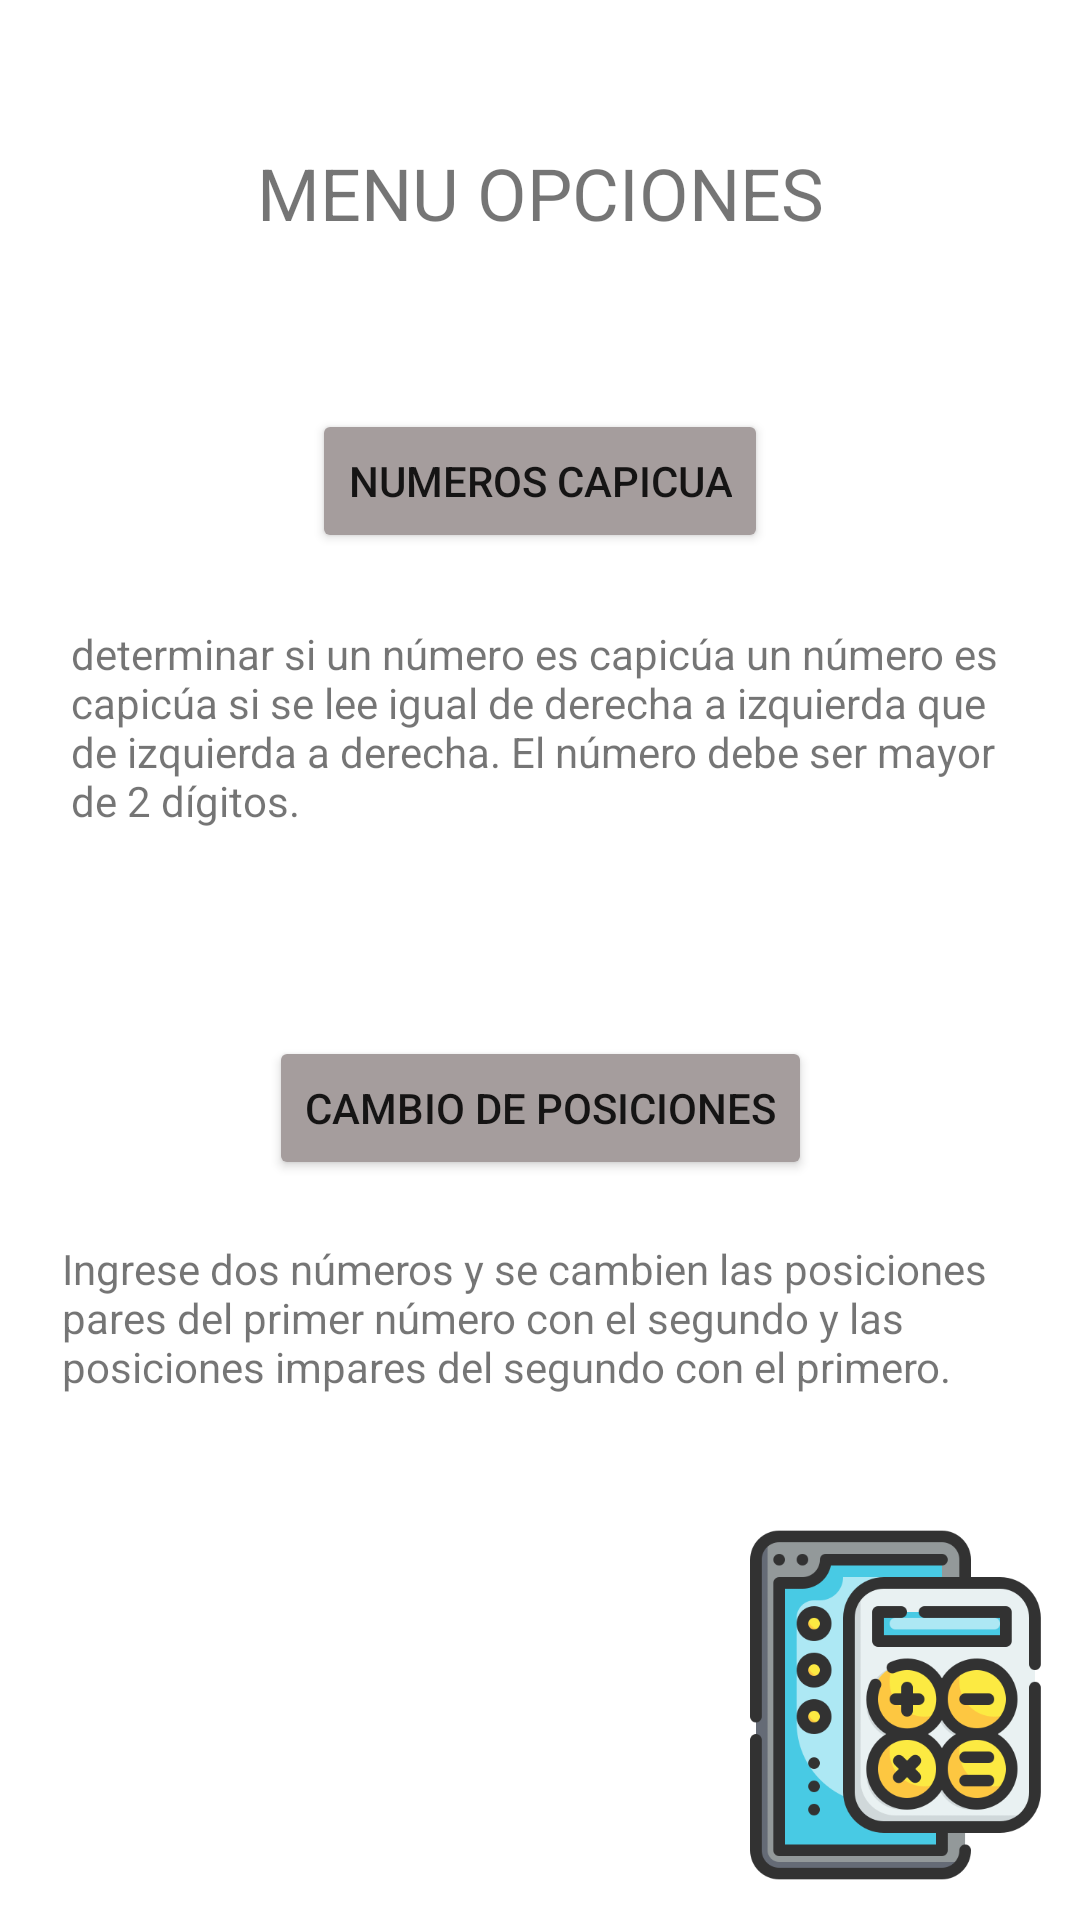

Screen size 1080 × 1920. Icon name, then its box in pixels as (x1, y1, x2, y2):
calculator: (750, 1530, 1041, 1880)
